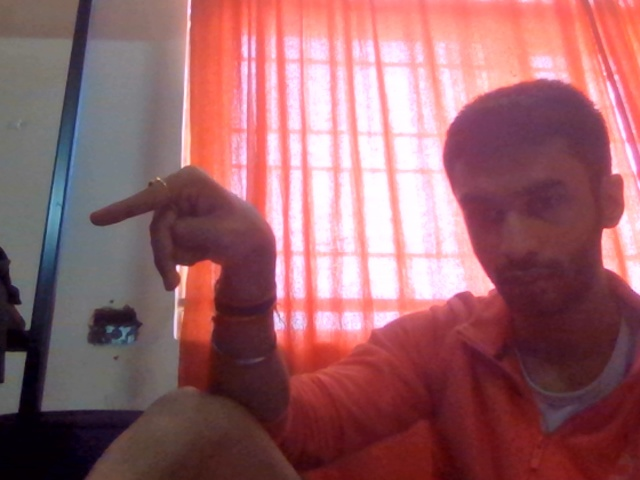P: (95, 151, 302, 348)
